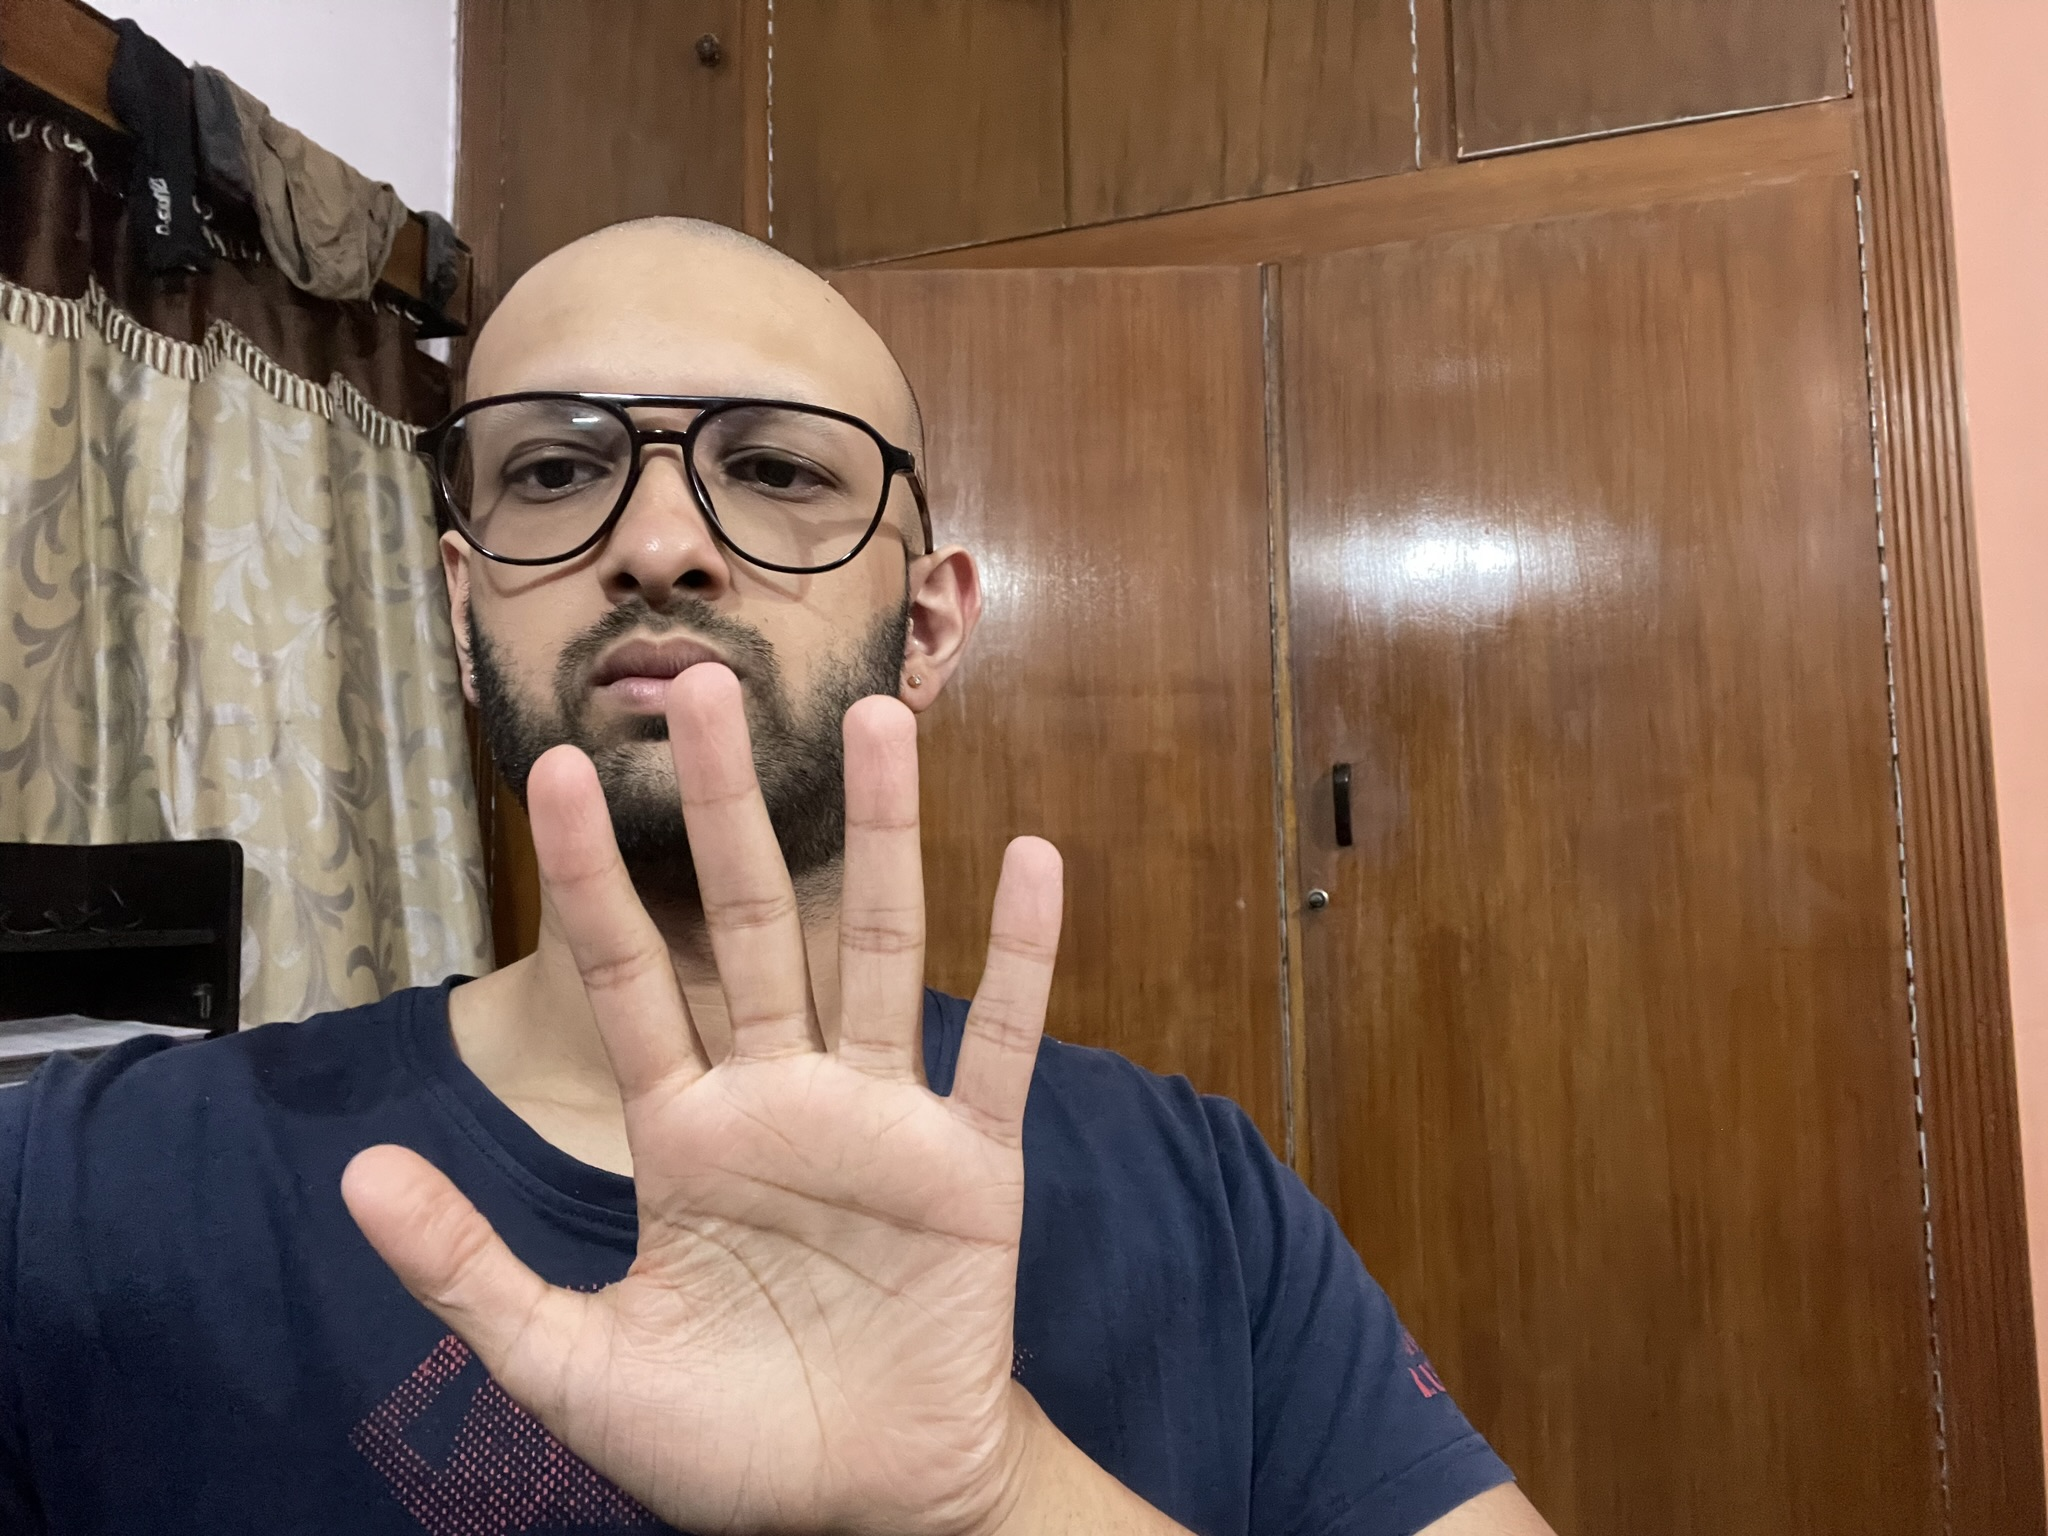Hello: (329, 658, 1074, 1536)
